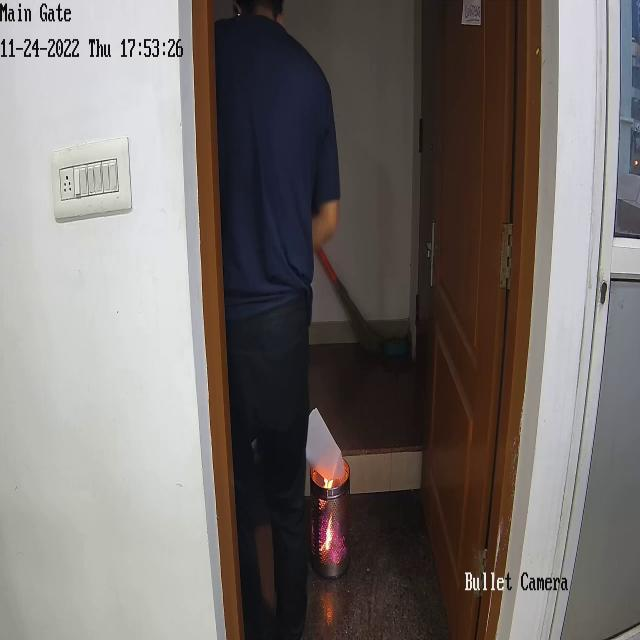fire: (324, 515, 336, 560), (324, 470, 339, 490)
smoke: (344, 148, 396, 263), (342, 351, 398, 448), (370, 237, 404, 354)
